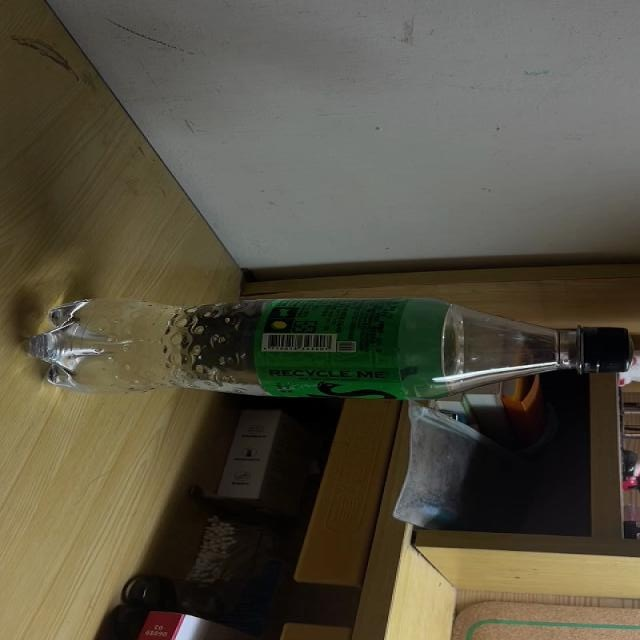Sprite: (17, 295, 631, 402)
